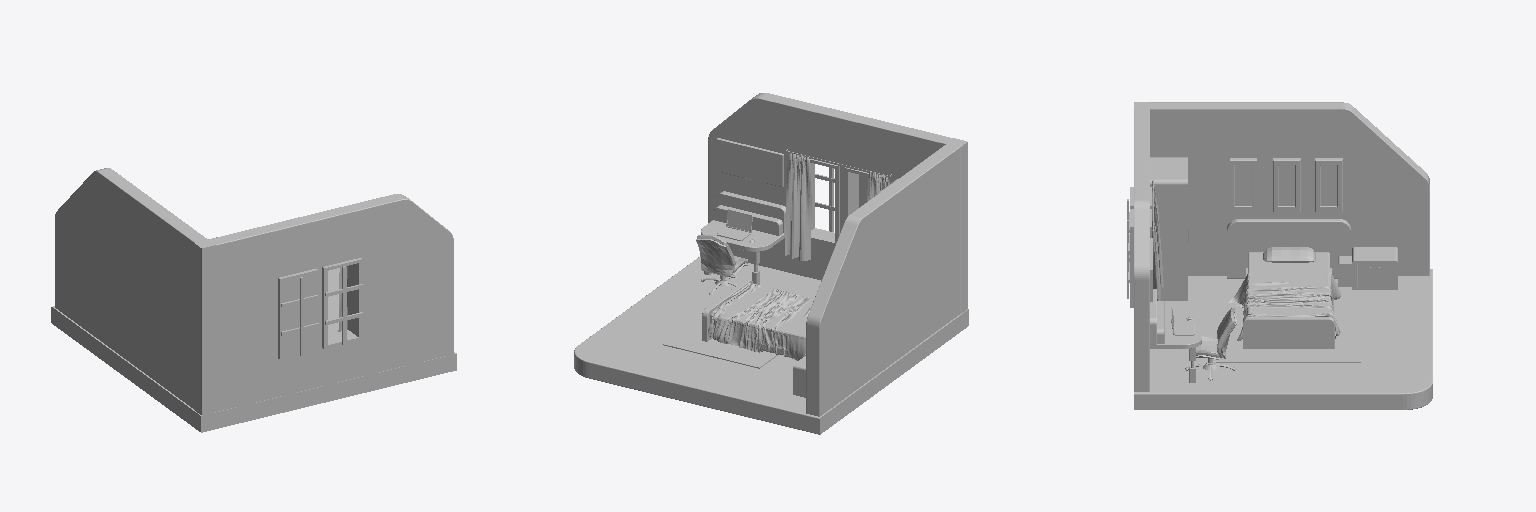
Rendered from Room61.obj.
3 views of the same model, side by side, from view 1: azimuth 30°, elevation 25°; view 2: azimuth 150°, elevation 25°; view 3: azimuth 270°, elevation 25° (orthographic).
Parts seen in each view (by area): view 1: Room6.001; view 2: Room6.001; view 3: Room6.001.
Part boxes in pixels (left/top/right/bottom): Room6.001: left=51, top=168, right=456, bottom=432; Room6.001: left=574, top=93, right=968, bottom=434; Room6.001: left=1127, top=102, right=1432, bottom=409.
Bounding box in the file's own units: 22.1 × 15.16 × 22.85.